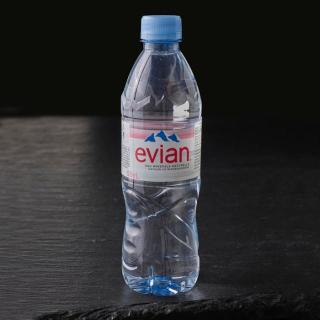Anorganik: (110, 9, 216, 303)
